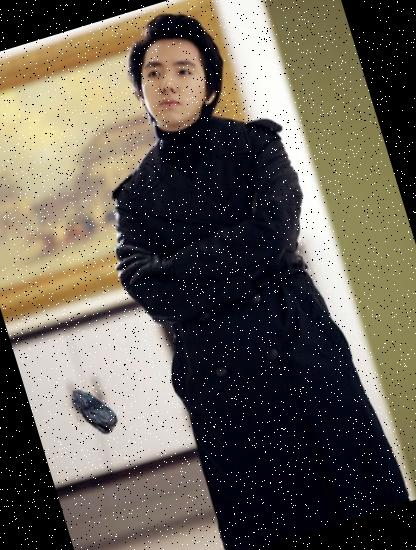Dates: (60, 374, 130, 445)
